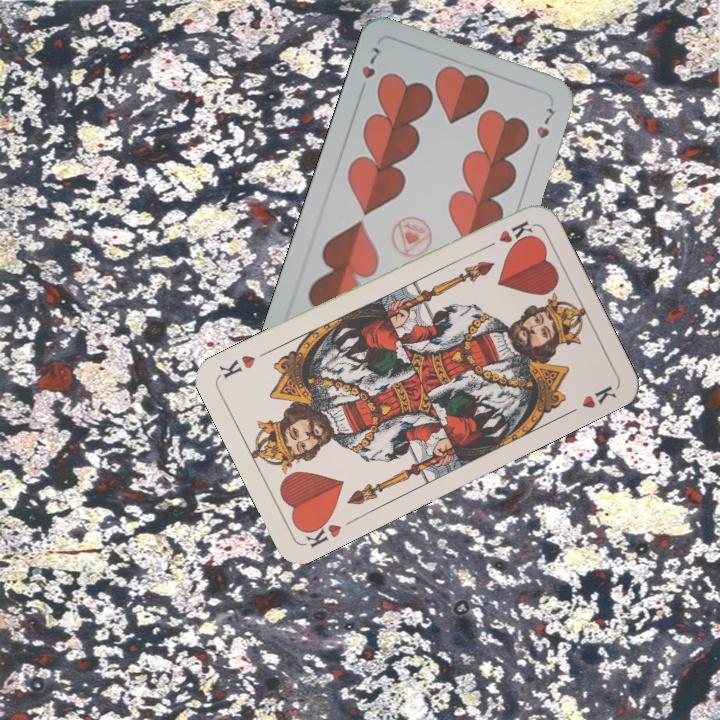H7: (355, 42, 384, 97)
HK: (479, 216, 536, 253), (297, 512, 344, 551)
